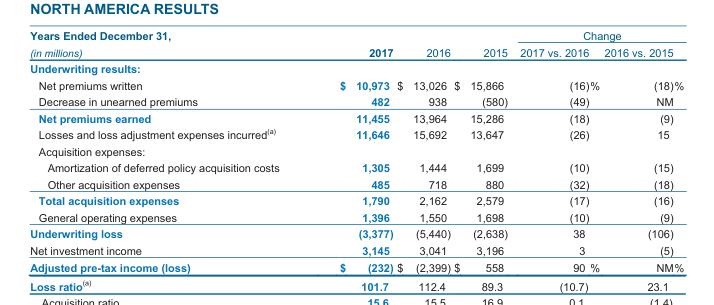table: (29, 28, 683, 273)
table column: (29, 28, 308, 273), (513, 28, 601, 273), (308, 28, 394, 273), (601, 28, 683, 273), (451, 28, 513, 273), (394, 28, 451, 273)
table column header: (29, 28, 683, 60)
table projected row header: (29, 142, 683, 159), (29, 60, 683, 76)
table row: (29, 43, 683, 60), (29, 76, 683, 93), (29, 125, 683, 142), (29, 142, 683, 159), (29, 175, 683, 192), (29, 208, 683, 225), (29, 241, 683, 258), (29, 60, 683, 76), (29, 93, 683, 109), (29, 109, 683, 125), (29, 159, 683, 175), (29, 192, 683, 208), (29, 225, 683, 241), (29, 28, 683, 43), (29, 258, 683, 273)
table spanning cell: (29, 28, 308, 60), (308, 28, 394, 60), (513, 28, 683, 43), (451, 28, 513, 60), (394, 28, 451, 60)
